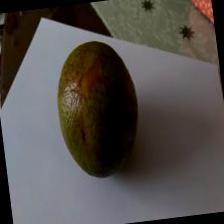Orange Rotten: (44, 24, 152, 188)
